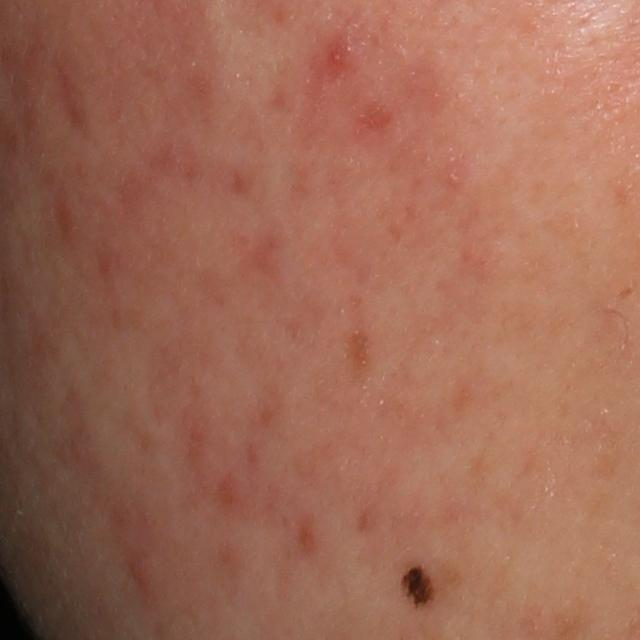nevus: (391, 563, 440, 614)
papule: (319, 27, 365, 82), (131, 556, 148, 585)
